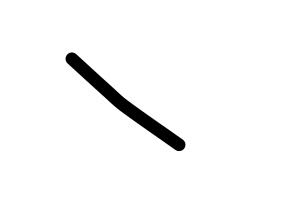b: (56, 43, 214, 173)
